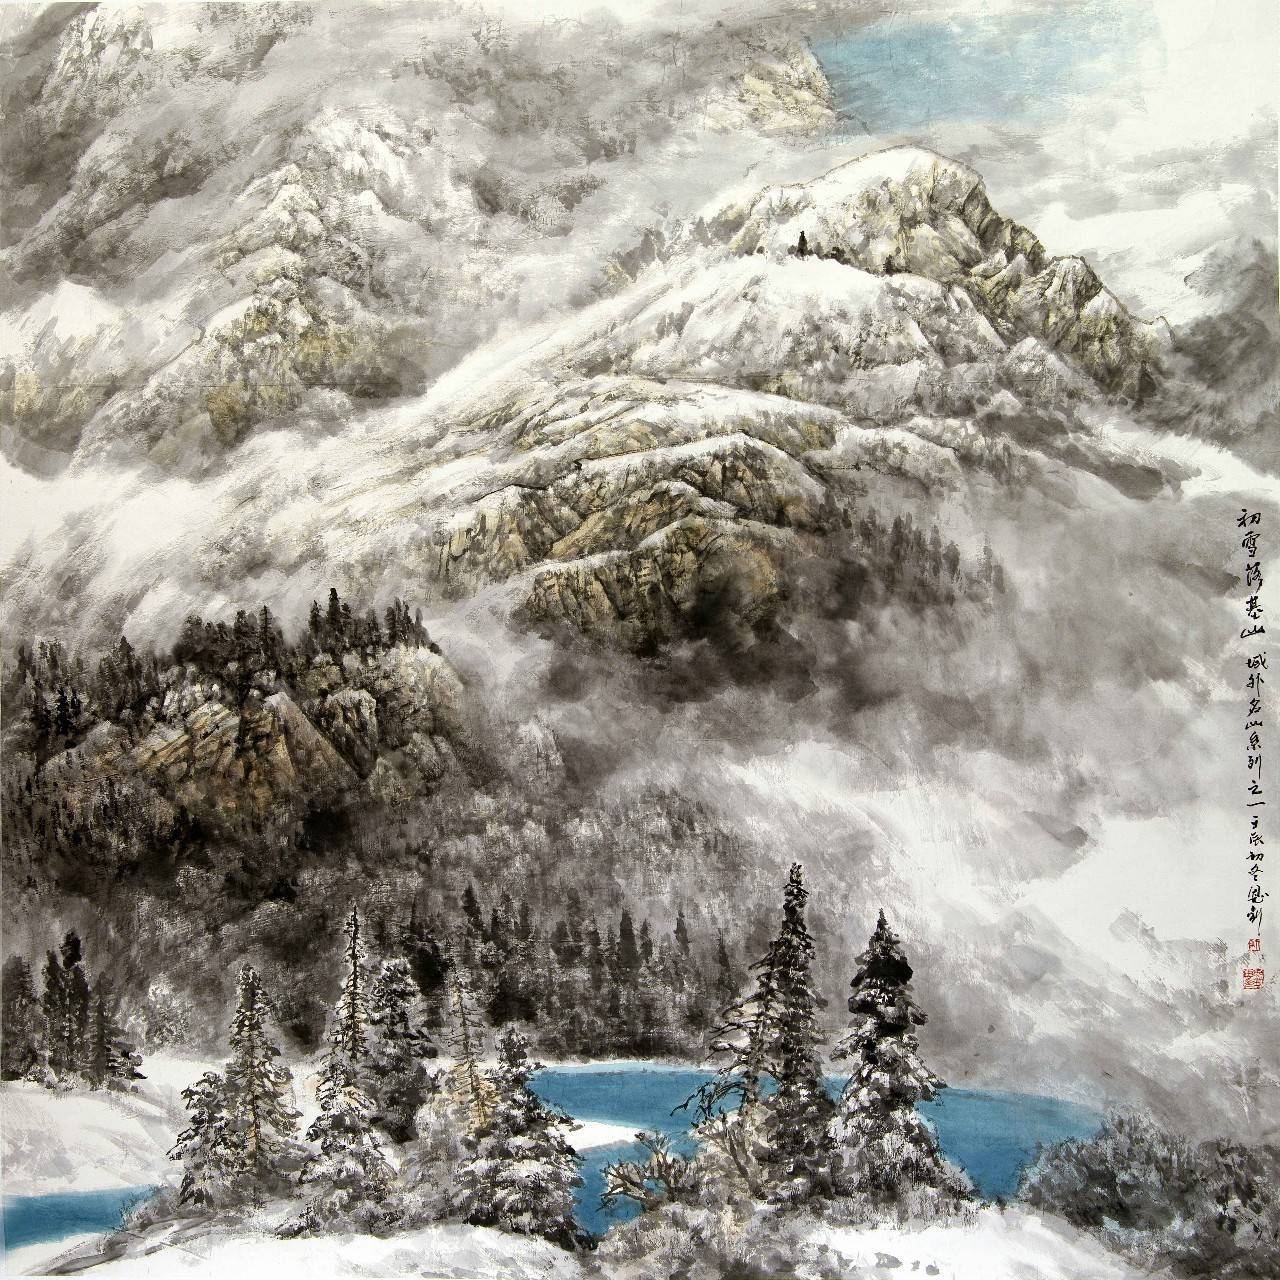mountain: (429, 149, 1172, 680), (42, 13, 802, 483), (47, 652, 791, 862)
pine: (663, 857, 826, 1197), (821, 897, 958, 1219), (291, 897, 420, 1238), (179, 966, 298, 1223), (467, 1013, 588, 1226), (1, 922, 141, 1088), (23, 619, 188, 757), (172, 588, 431, 661), (433, 920, 491, 1166)
